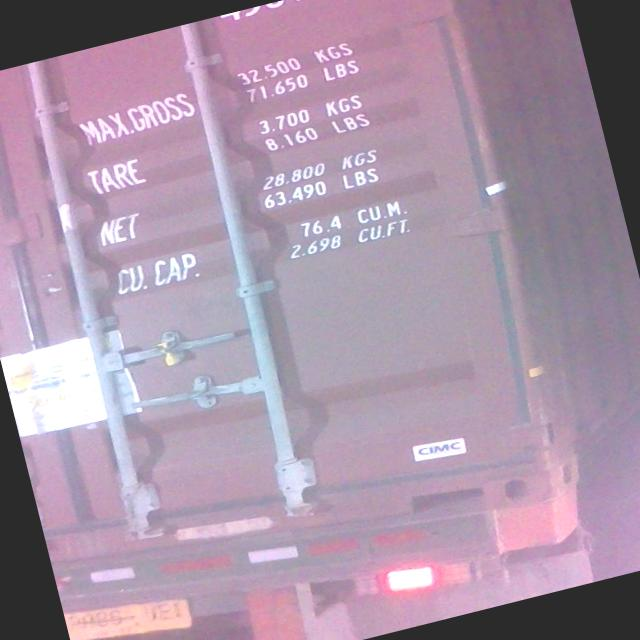seal: (153, 336, 184, 371)
